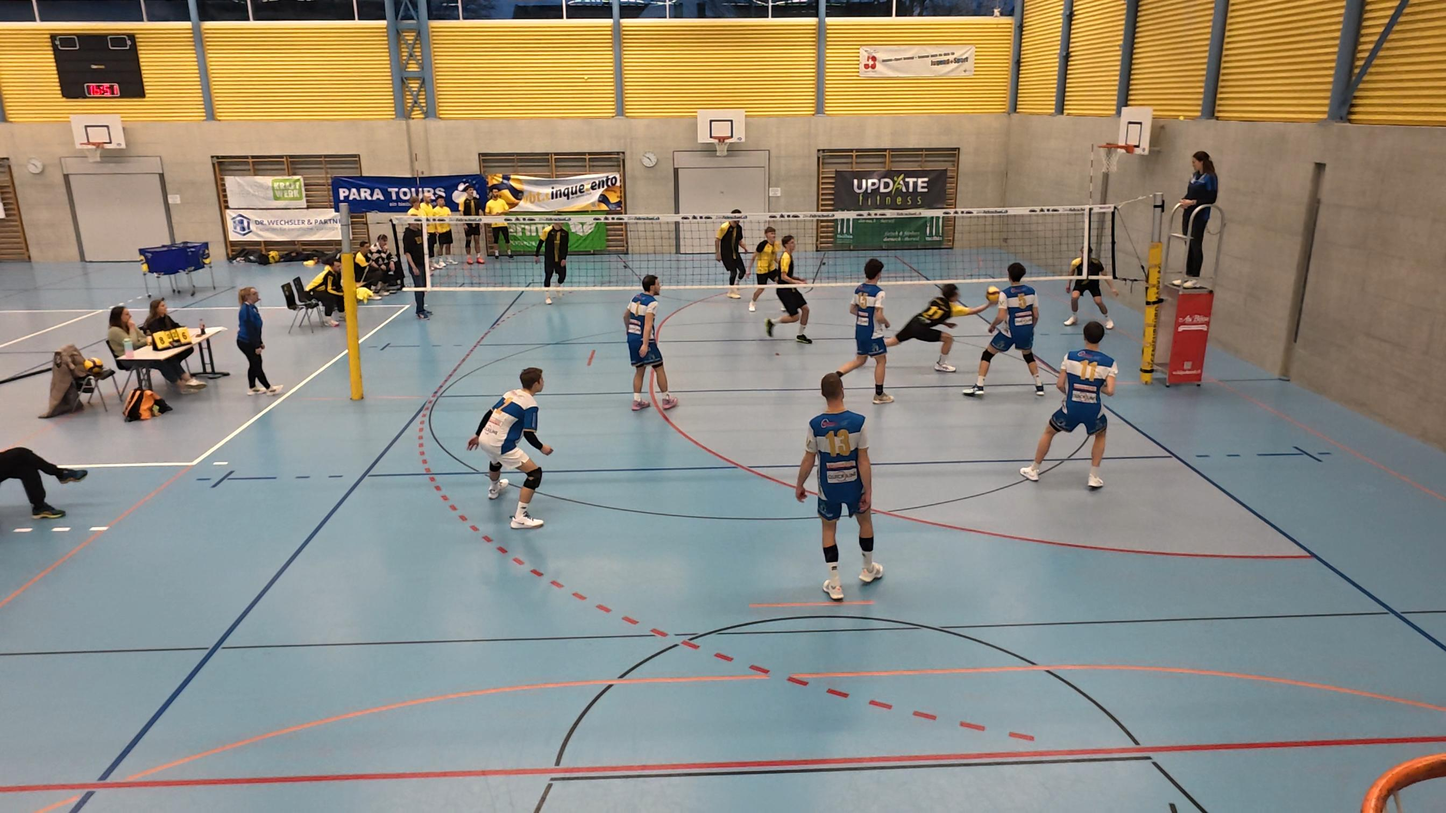difesa: (876, 279, 994, 374)
